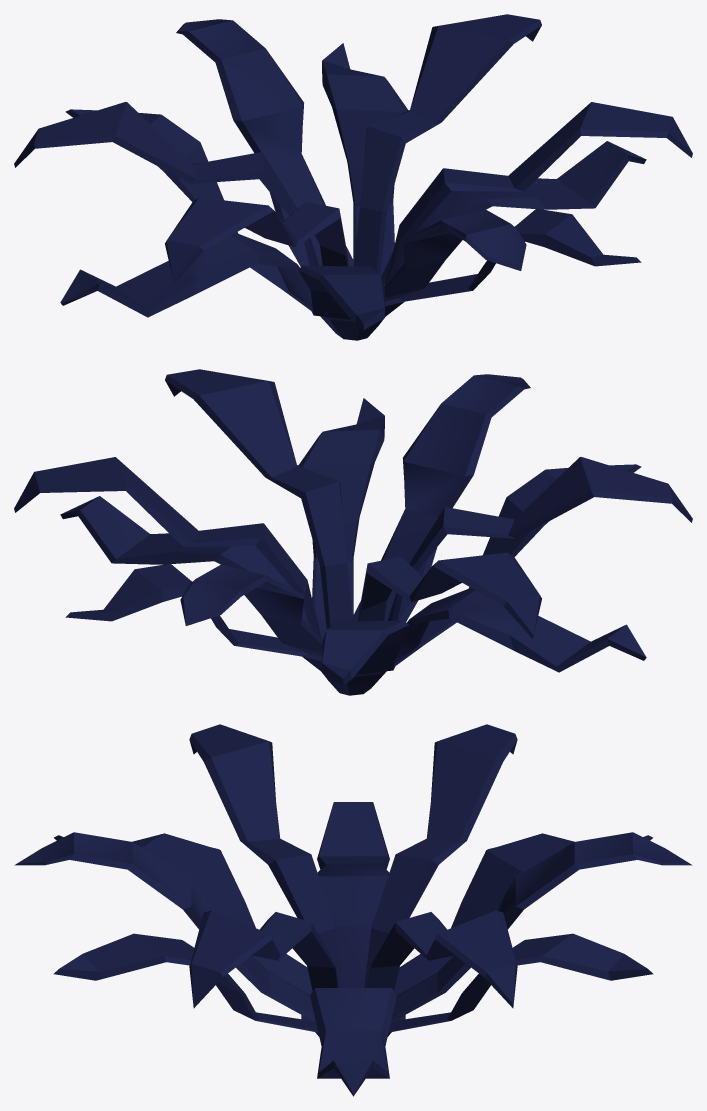
Rendered from follliage_2_dying.fbx.
The picture shows the model from 3 angles, top to bottom: view 1: azimuth 30°, elevation 25°; view 2: azimuth 150°, elevation 25°; view 3: azimuth 270°, elevation 25°; orthographic projection.
Parts seen in each view (by area): view 1: follliage_2_dying; view 2: follliage_2_dying; view 3: follliage_2_dying.
Boxes of the visible parts, bbox=[...] form: follliage_2_dying: bbox=[14, 14, 692, 340]; follliage_2_dying: bbox=[14, 369, 692, 695]; follliage_2_dying: bbox=[14, 724, 692, 1096].
Bounding box in the file's own units: 0.9951 × 0.9921 × 0.3524.
